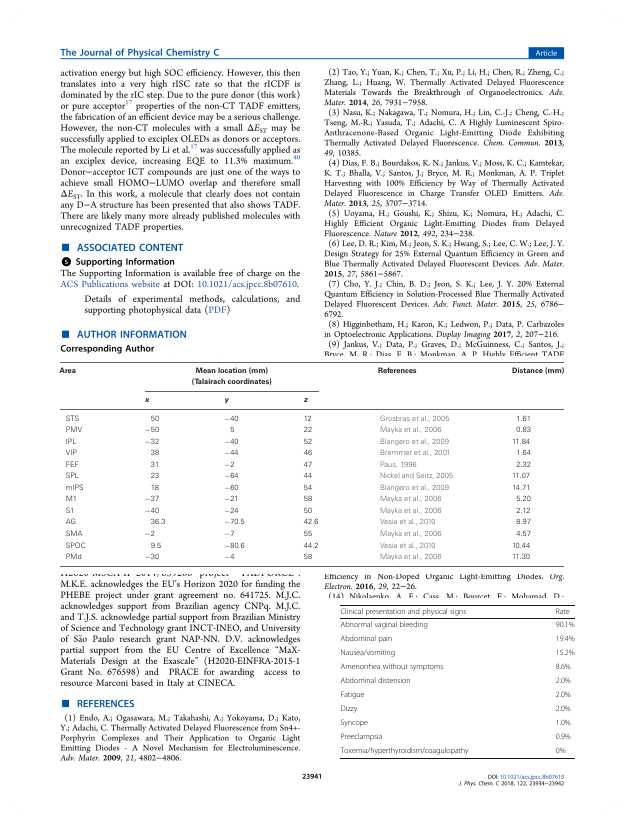borderless: (59, 361, 564, 566), (339, 603, 575, 758)
cell: (191, 367, 273, 387), (339, 746, 469, 756), (340, 607, 467, 616), (340, 662, 444, 672), (340, 620, 429, 630), (340, 676, 412, 686), (379, 472, 454, 481), (379, 450, 451, 459), (379, 415, 450, 424), (379, 438, 450, 447), (379, 484, 450, 493), (379, 507, 442, 516), (379, 530, 442, 539), (379, 553, 442, 562), (340, 648, 396, 658), (340, 634, 393, 644), (379, 519, 436, 528), (379, 542, 436, 551), (379, 427, 442, 435), (379, 496, 442, 504), (511, 367, 565, 375), (340, 732, 383, 742), (379, 461, 418, 470), (377, 367, 418, 375), (340, 718, 369, 728), (340, 690, 365, 700), (223, 519, 246, 528), (223, 542, 246, 551), (555, 620, 575, 630), (555, 634, 575, 644), (555, 648, 575, 658), (65, 542, 87, 551), (511, 438, 531, 447), (511, 472, 531, 481), (65, 484, 85, 493), (511, 484, 531, 493), (511, 542, 531, 551), (511, 553, 531, 562), (340, 704, 358, 714), (555, 662, 572, 672), (555, 676, 572, 686), (555, 690, 572, 700), (555, 704, 572, 714), (555, 718, 572, 728), (555, 732, 572, 742), (65, 530, 83, 539), (65, 553, 83, 562), (223, 415, 240, 424), (515, 415, 532, 424), (223, 438, 240, 447), (223, 450, 240, 459), (515, 450, 532, 459), (515, 461, 532, 470), (223, 472, 240, 481), (223, 484, 240, 493), (223, 496, 240, 505), (223, 507, 240, 516), (515, 519, 532, 528), (515, 530, 532, 539), (58, 367, 77, 375), (65, 427, 83, 435), (144, 438, 160, 447), (144, 496, 160, 505), (144, 507, 160, 516), (515, 507, 531, 516), (150, 519, 166, 528), (303, 519, 319, 528), (303, 542, 319, 551), (144, 553, 160, 562), (555, 607, 571, 616), (515, 427, 532, 435), (515, 496, 532, 504), (65, 415, 80, 424), (65, 461, 80, 470), (65, 472, 80, 481), (144, 427, 160, 435), (65, 438, 78, 447), (65, 450, 78, 459), (65, 496, 78, 505), (555, 746, 566, 756), (223, 461, 235, 470), (65, 519, 77, 528), (144, 530, 156, 539), (223, 530, 235, 539), (150, 542, 162, 551), (223, 553, 235, 562), (150, 415, 160, 424), (303, 415, 313, 424), (303, 438, 313, 447), (150, 450, 160, 459), (303, 450, 313, 459), (150, 461, 160, 470), (303, 461, 313, 470), (150, 472, 160, 481), (303, 472, 313, 481), (150, 484, 160, 493), (303, 484, 313, 493), (303, 496, 313, 505), (65, 507, 75, 516), (303, 507, 313, 516), (303, 530, 313, 539), (303, 553, 313, 562), (303, 427, 313, 435), (229, 427, 235, 435), (144, 398, 150, 405), (223, 398, 229, 405), (303, 398, 308, 405)
